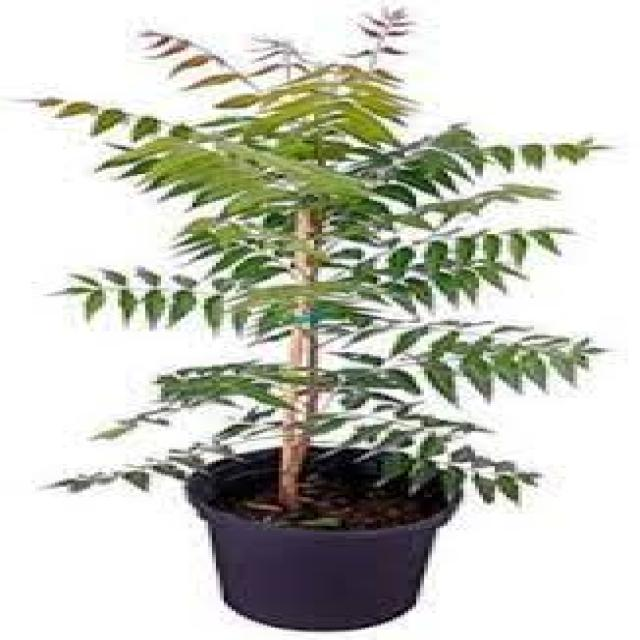Medicinal-Neem: (21, 3, 611, 504)
